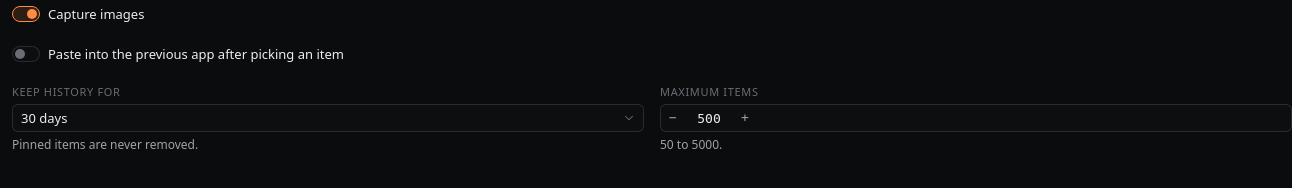
Scenario: ClipboardSettingsPanel › shows inline field errors
Click the button named "Increase": {"x": 745, "y": 118} x1=733 y1=105 x2=757 y2=131
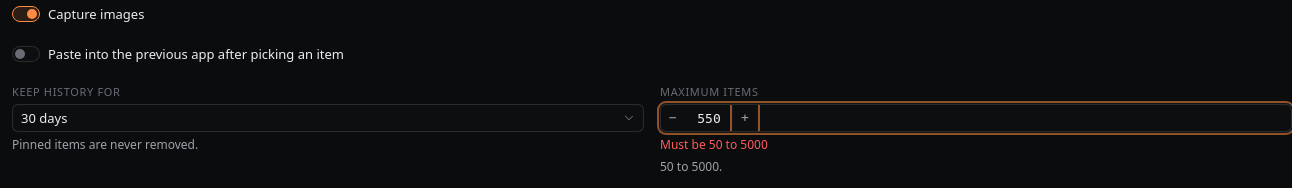
Now the text "Must be 50 to 5000" is shown, box x1=660 y1=136 x2=768 y2=153
